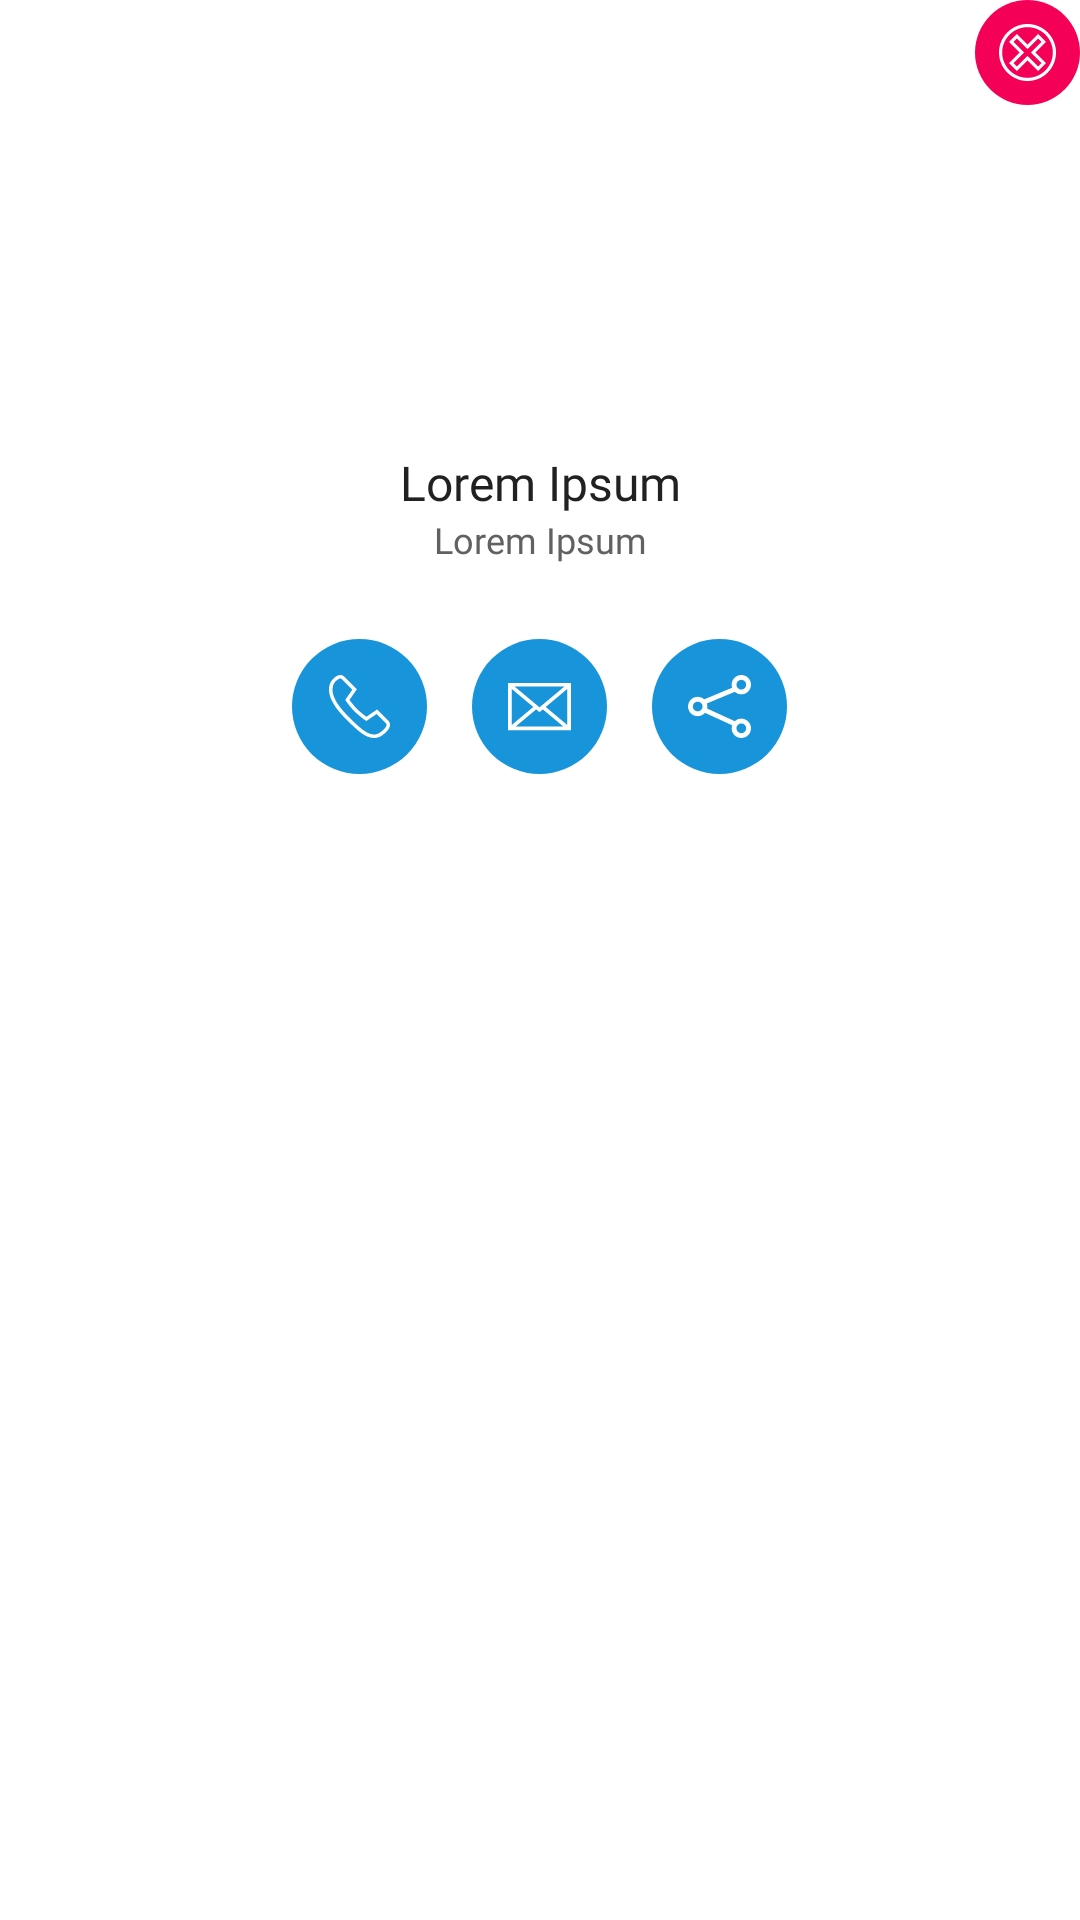

Icons on this 1080 × 1920 Android screen, each with the point to tap as (x=x, y=y):
cancel: (x=1027, y=52)
mail: (x=539, y=706)
phone: (x=359, y=706)
share: (x=719, y=706)
